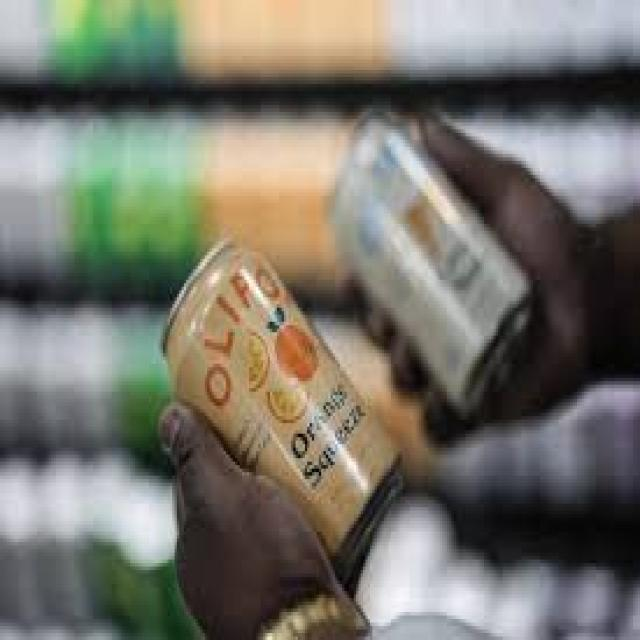Cans: (156, 231, 403, 538)
